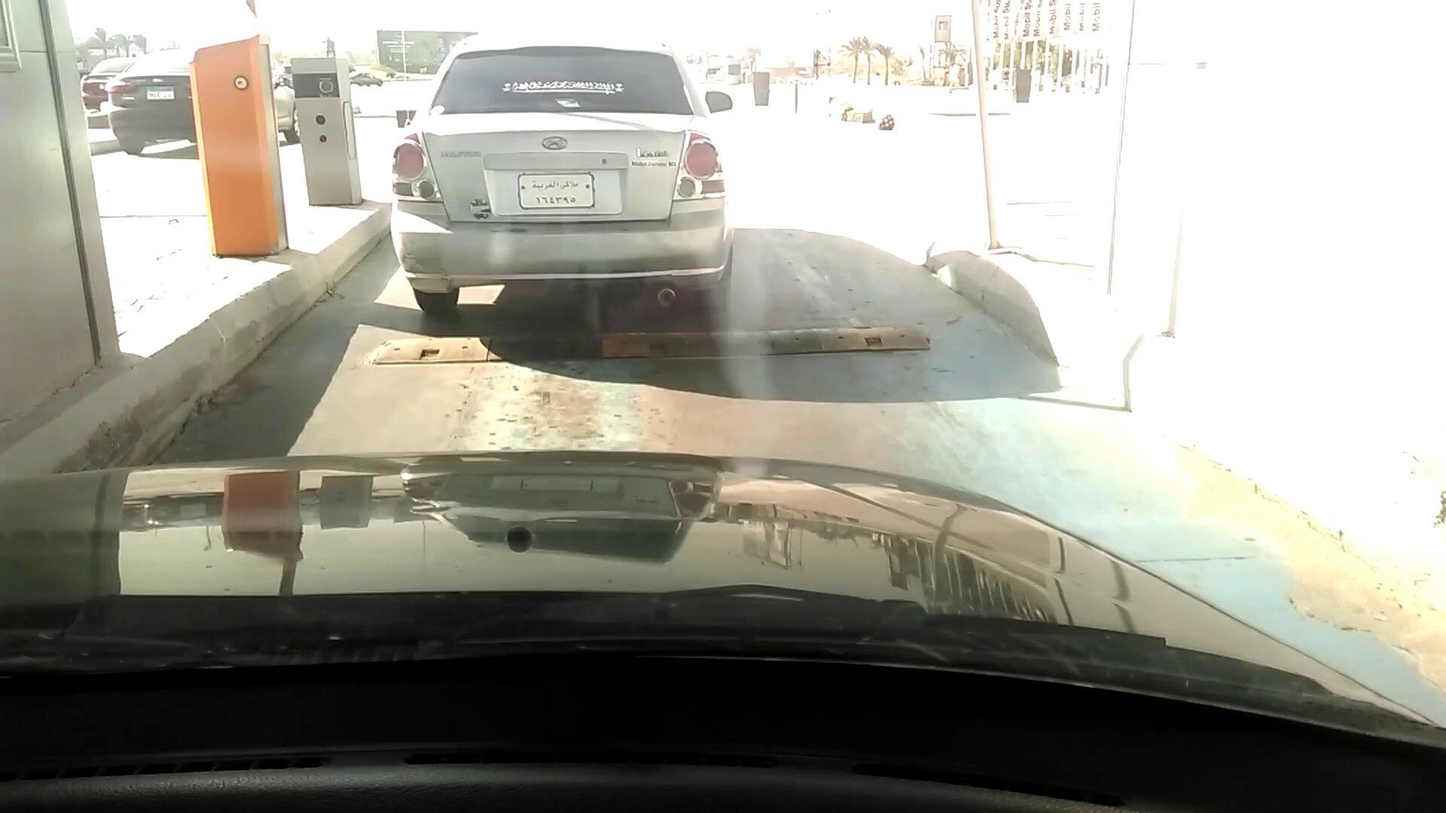Bump: (358, 327, 981, 365)
